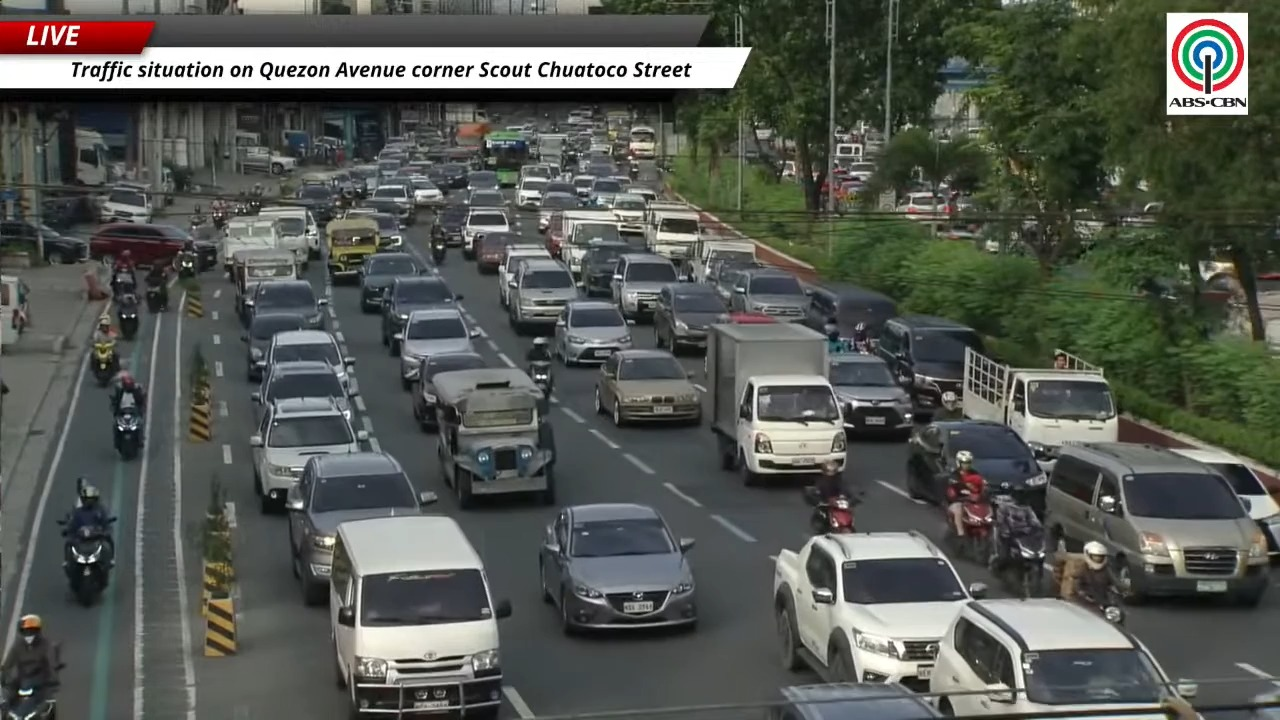bus: (483, 131, 529, 187), (628, 126, 657, 159)
car: (328, 514, 510, 719), (1044, 442, 1269, 606), (772, 532, 985, 690), (929, 599, 1197, 716), (286, 451, 436, 605), (539, 503, 697, 633), (250, 398, 368, 513), (906, 420, 1046, 512), (1170, 448, 1279, 560), (875, 315, 984, 409), (594, 349, 700, 426), (390, 306, 479, 389), (828, 353, 913, 436), (766, 680, 940, 719), (252, 361, 357, 419), (89, 222, 217, 269), (412, 353, 489, 430), (381, 275, 462, 346), (262, 330, 354, 392), (507, 258, 577, 333), (553, 299, 632, 365), (652, 283, 726, 352), (803, 283, 897, 337), (611, 253, 678, 318), (242, 312, 304, 381), (729, 269, 809, 321), (245, 280, 327, 329), (0, 219, 88, 263), (360, 252, 421, 312), (497, 244, 550, 307), (685, 240, 756, 283), (579, 241, 633, 297), (344, 207, 403, 252), (706, 260, 762, 305), (463, 208, 512, 259), (366, 181, 415, 224), (99, 184, 153, 223), (475, 232, 522, 273), (538, 192, 580, 232), (293, 183, 336, 222), (608, 192, 647, 233), (431, 205, 469, 246), (896, 192, 945, 220), (409, 175, 443, 207), (516, 177, 547, 210), (589, 176, 623, 206), (543, 210, 564, 258), (422, 166, 450, 197), (466, 189, 507, 208), (439, 163, 467, 189), (572, 174, 597, 202), (377, 156, 402, 183), (466, 170, 499, 189), (544, 179, 575, 199), (728, 312, 778, 324), (627, 183, 657, 202), (520, 163, 552, 180)
motorcycle: (67, 518, 114, 606), (990, 528, 1046, 598), (998, 529, 1045, 598), (947, 495, 993, 565), (804, 487, 856, 534), (1076, 588, 1125, 626), (4, 685, 55, 719), (114, 408, 142, 460), (92, 342, 118, 386), (528, 360, 553, 396), (117, 304, 140, 341), (110, 270, 136, 296), (146, 285, 168, 314), (174, 252, 198, 277), (430, 238, 446, 264), (212, 209, 228, 229), (189, 216, 206, 234), (234, 201, 254, 216), (852, 340, 871, 354), (247, 196, 262, 213), (629, 162, 639, 179)
truck: (772, 531, 985, 686), (705, 323, 846, 486), (962, 348, 1118, 469), (220, 216, 284, 280), (645, 201, 700, 262), (688, 237, 755, 281), (74, 127, 113, 186), (237, 146, 296, 175), (537, 133, 567, 164)
